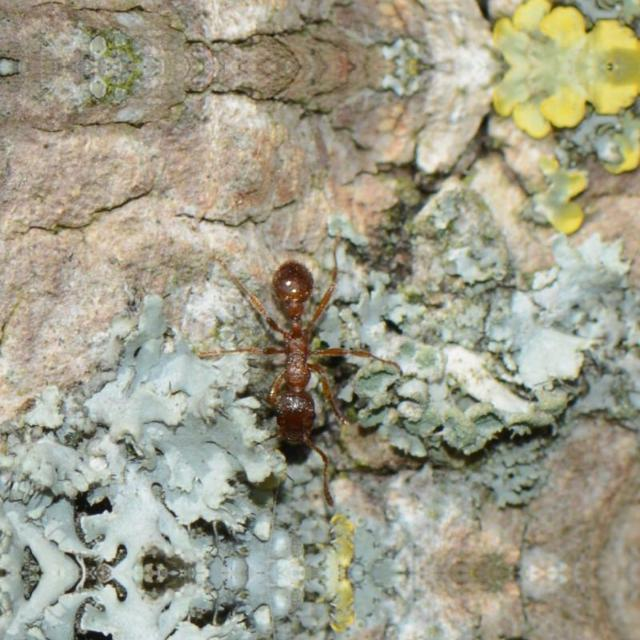Myrmica: (220, 251, 398, 475)
